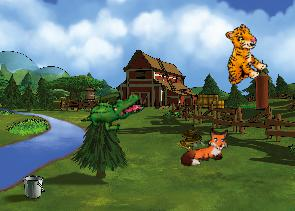crocodile: (79, 79, 147, 145)
fox: (176, 125, 233, 168)
tiger: (208, 21, 273, 90)
